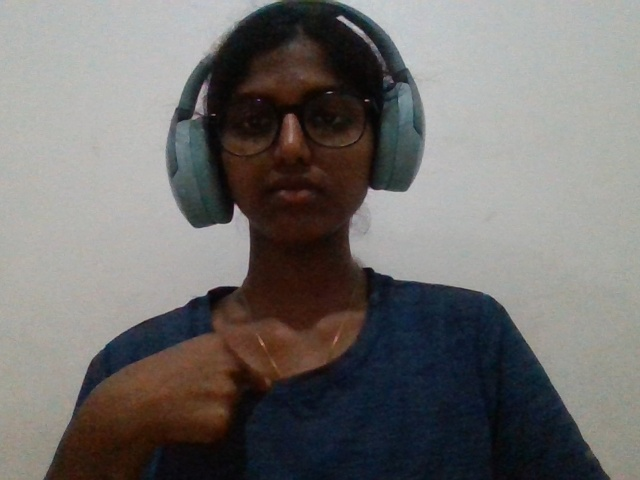Me: (61, 318, 297, 480)
